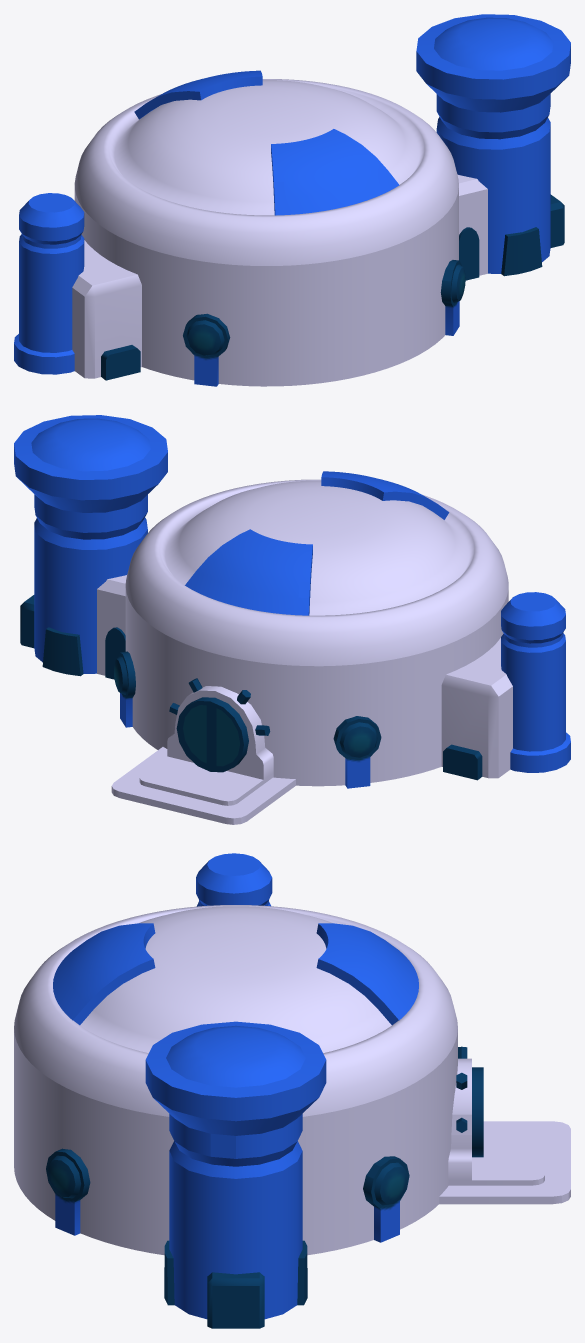
Rendered from Assets_VR_Room.fbx.
3 views of the same model, one above another, from view 1: azimuth 30°, elevation 25°; view 2: azimuth 150°, elevation 25°; view 3: azimuth 270°, elevation 25° (orthographic). The views are drawn at different scales.
Visible parts, largest first — view 1: Out_View, Tran, Out_Wall, CT_Tran; view 2: Out_View, Tran, Out_Wall, Door, CT_Tran; view 3: Out_View, Tran, Out_Wall, CT_Tran, Door.
Boxes of the visible parts, x1,y1,x2,y2 form: Out_View: (14,14,570,386); Tran: (74,79,458,265); Out_Wall: (74,185,458,386); CT_Tran: (134,70,399,215); Out_View: (14,415,570,788); Tran: (125,479,508,666); Out_Wall: (125,588,508,786); Door: (111,678,295,824); CT_Tran: (185,471,449,615); Out_View: (46,853,409,1328); Tran: (14,905,457,1116); Out_Wall: (14,1029,457,1255); CT_Tran: (53,923,418,1025); Door: (439,1046,570,1204).
Bounding box in the file's own units: 2090 × 803 × 1606.
Materials: 1 (1 with a texture image).
